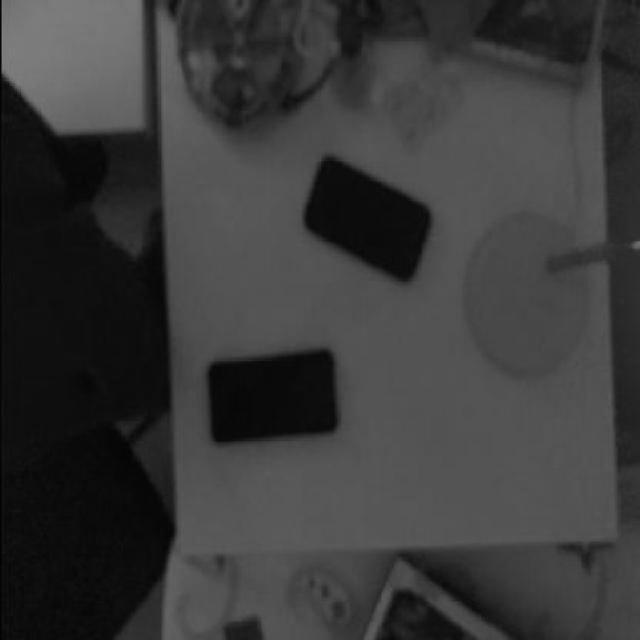fake: (302, 158, 428, 284), (206, 346, 340, 452)
